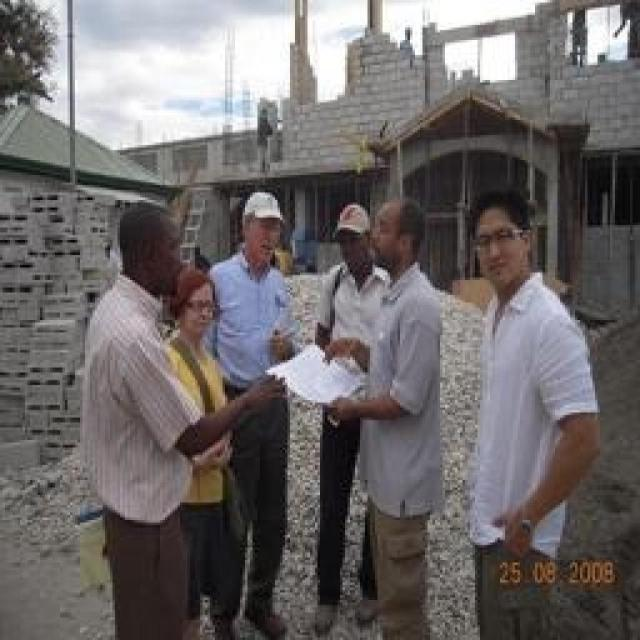Helmet: (468, 274, 592, 569), (68, 273, 200, 550), (372, 266, 448, 522), (146, 332, 242, 510), (205, 246, 286, 415), (324, 246, 379, 441), (455, 184, 533, 300), (102, 188, 172, 314), (228, 168, 286, 282), (372, 182, 423, 286), (330, 187, 380, 279), (168, 254, 218, 344)
